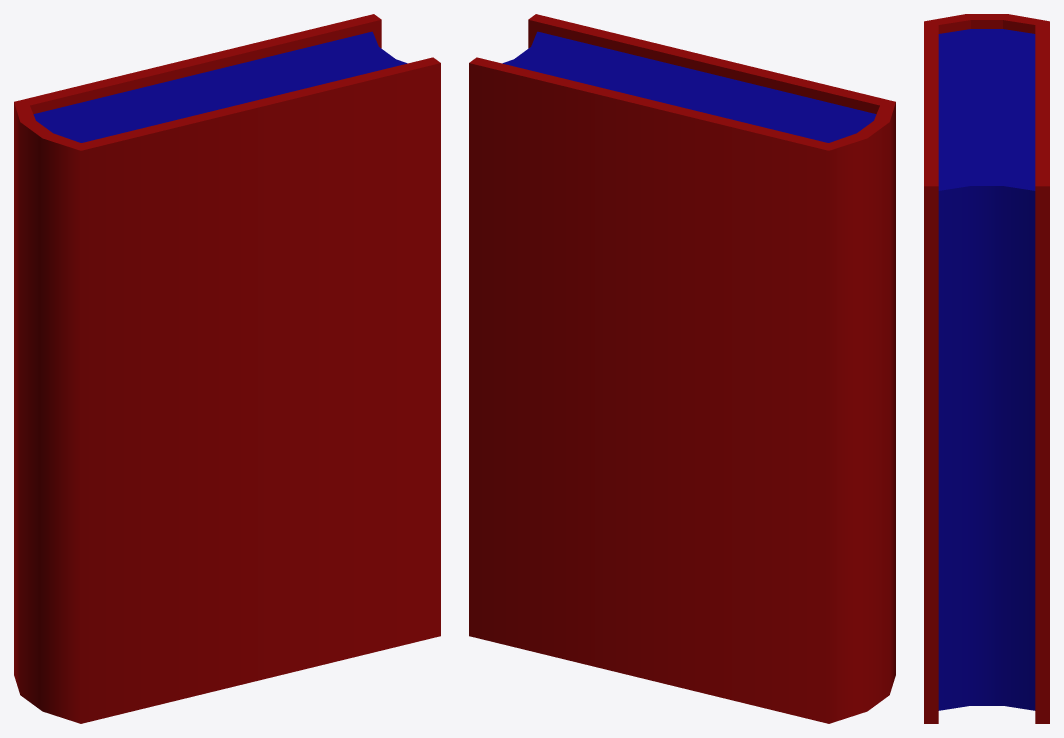
Rendered from sub_book.fbx.
3 renders of one model, left to right at view 1: azimuth 30°, elevation 25°; view 2: azimuth 150°, elevation 25°; view 3: azimuth 270°, elevation 25°, orthographic. The views are drawn at different scales.
Visible parts, largest first — view 1: Box082; view 2: Box082; view 3: Box082.
Part boxes in pixels (box(x1,y1,x2,y2)): Box082: box(14, 14, 440, 723); Box082: box(469, 14, 895, 723); Box082: box(924, 14, 1049, 723).
Size of the model in its own units: 63.07 by 91.85 by 19.46.
